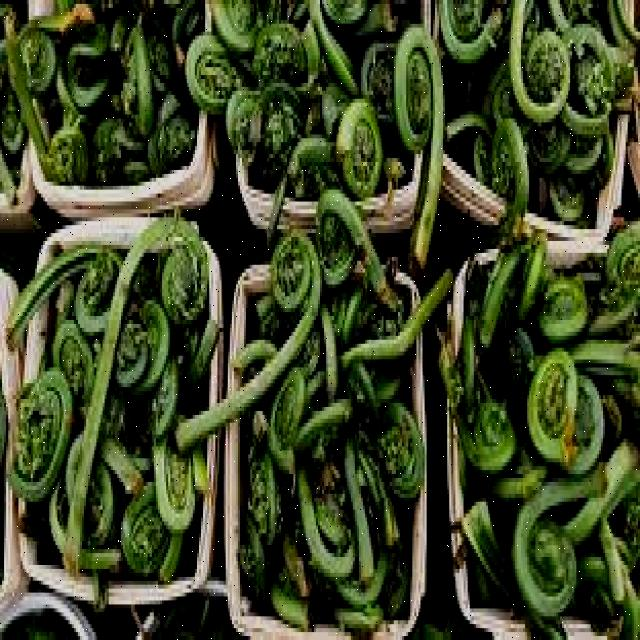Fiddlehead Ferns: (245, 220, 422, 626), (461, 245, 640, 630), (32, 241, 202, 602), (224, 0, 466, 237), (495, 2, 623, 220), (49, 25, 197, 166)
